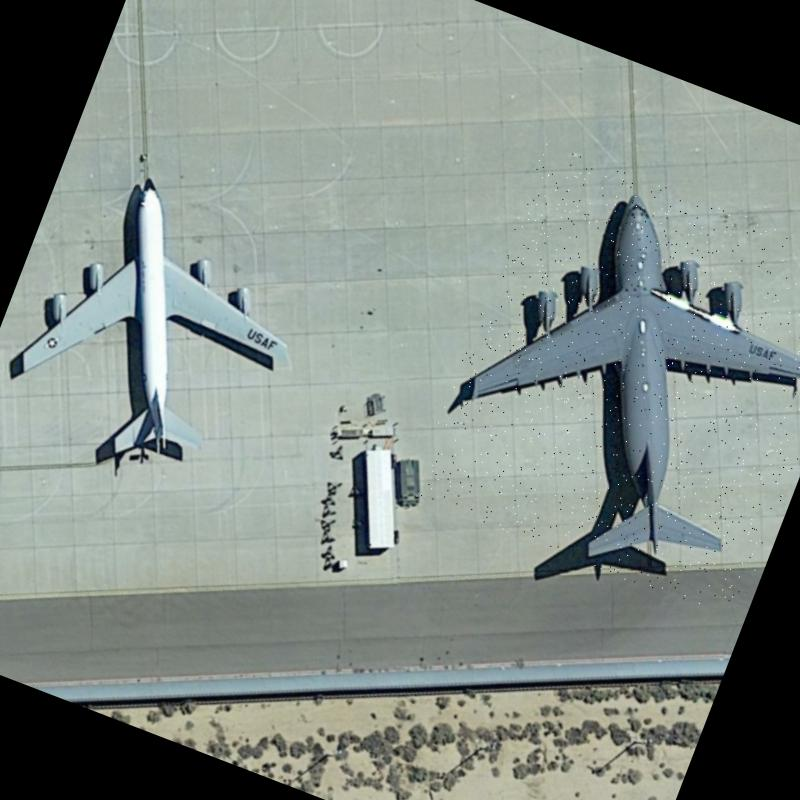A11: (0, 140, 335, 512)
A3: (409, 139, 800, 622)
